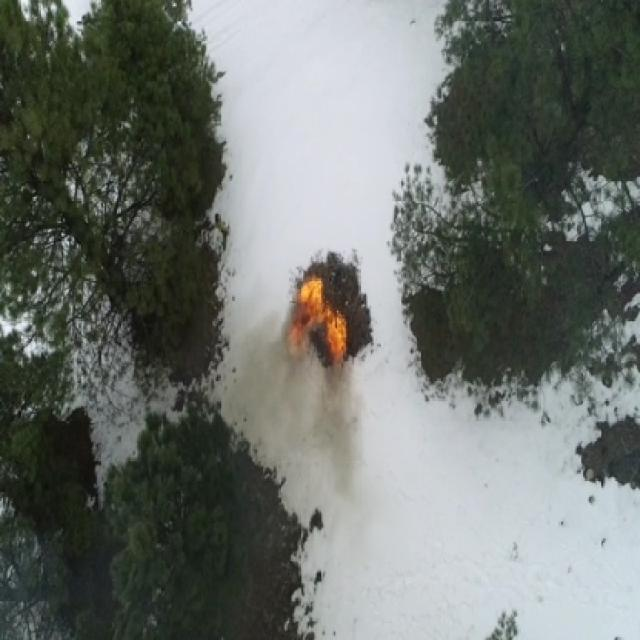Fire: (324, 299, 352, 368), (300, 277, 323, 320), (288, 318, 310, 348)
